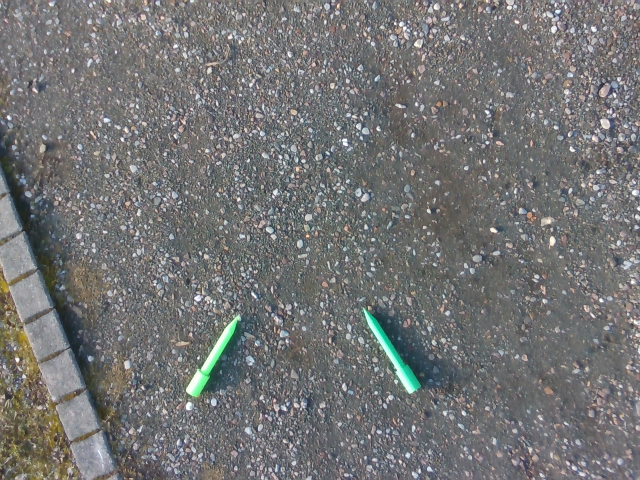Probe: (359, 301, 426, 399), (184, 310, 241, 401)
